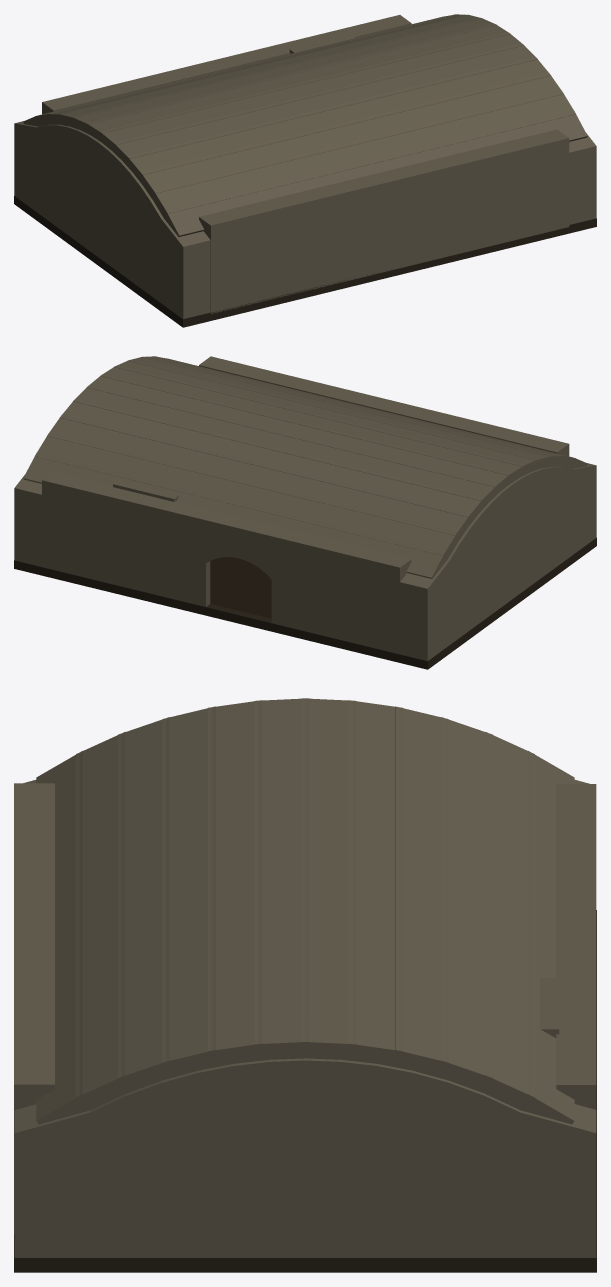
Rendered from LairCellar.fbx.
3 renders of one model, top to bottom at view 1: azimuth 30°, elevation 25°; view 2: azimuth 150°, elevation 25°; view 3: azimuth 270°, elevation 25°, orthographic. The views are drawn at different scales.
Visible parts, largest first — view 1: LairCellar; view 2: LairCellar; view 3: LairCellar.
Boxes of the visible parts, x1,y1,x2,y2 form: LairCellar: (14, 14, 596, 327); LairCellar: (14, 356, 596, 669); LairCellar: (14, 698, 596, 1272).
Size of the model in its own units: 1642 by 503 by 1162.
9 materials, 9 textured.
